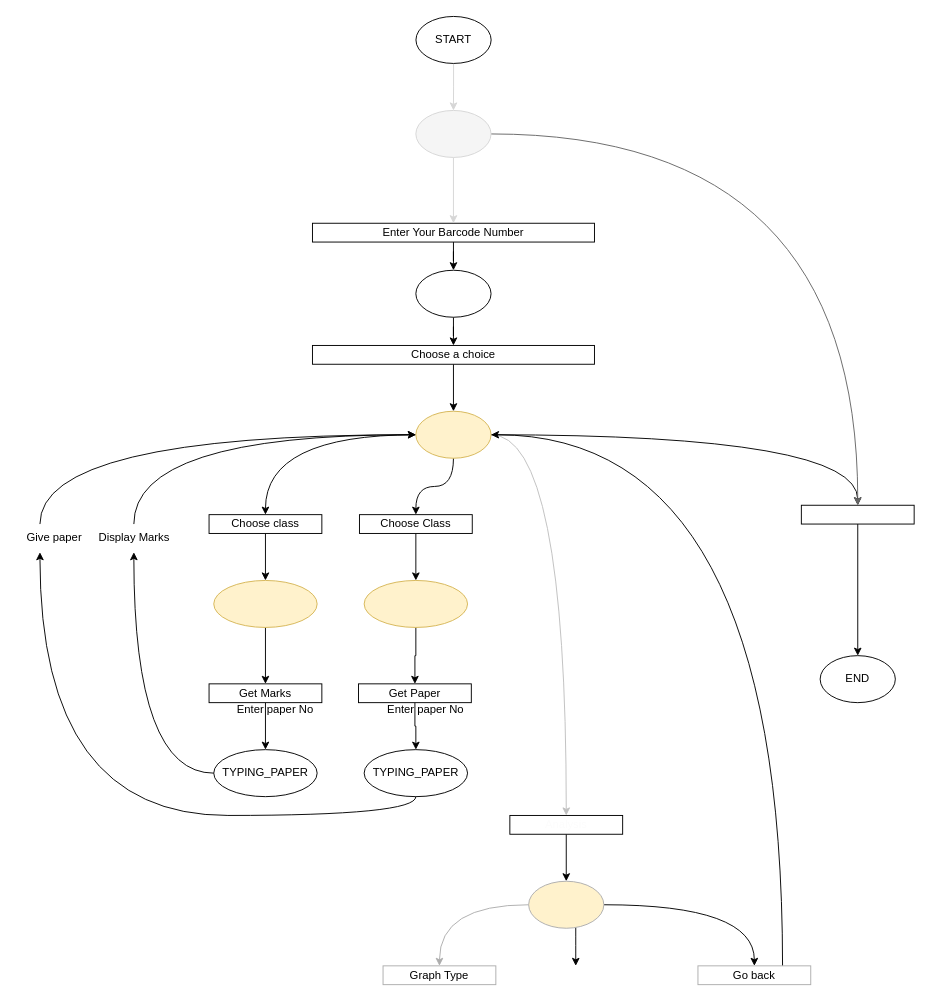
This 931x1001 diagram has some shape labels left out. Here are the shapes that lost their labels. From the top down, the centre of each, then its label:
point 453,133: LANG CHOOSING
point 453,293: TYPING_ BARCODE
point 453,434: CHOOSING
point 857,514: Close
point 265,603: CHOOSING CLASS
point 415,603: CHOOSEING CLASS
point 566,904: CHOOSING TYPE
